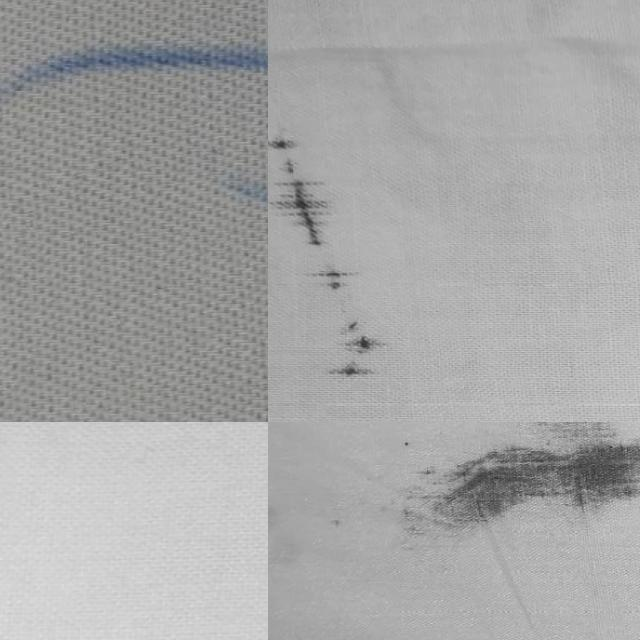Thread_other: (0, 422, 268, 640), (268, 113, 413, 422), (373, 422, 640, 553)
